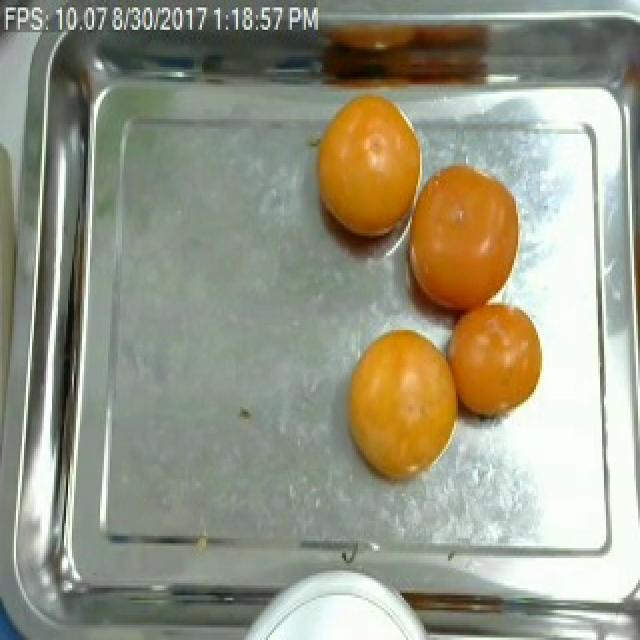Fruit: (334, 315, 476, 499), (302, 82, 426, 270), (394, 151, 530, 320), (440, 288, 554, 432)
